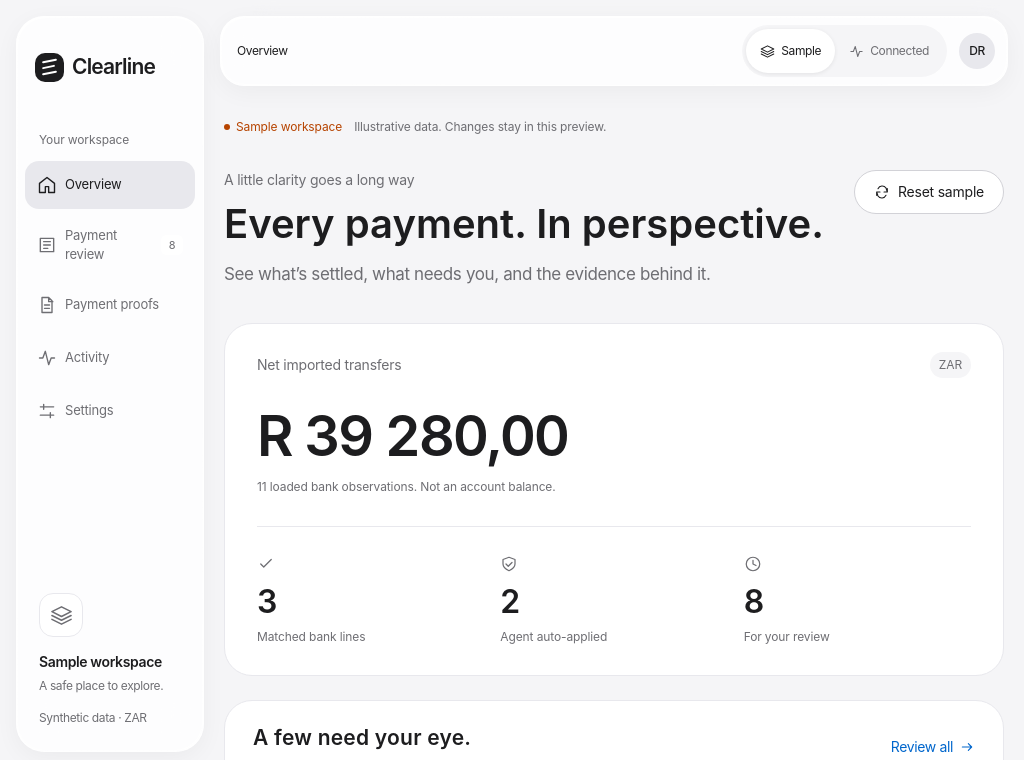
Test: switches to the actual HTTP source and shows an offline state instead of sample values
Expected: the text "R 39 280,00" is shown, [257,402,568,470]
Click the link with aria-label "Connected workspace" at (889, 51), box [849,43,929,58]
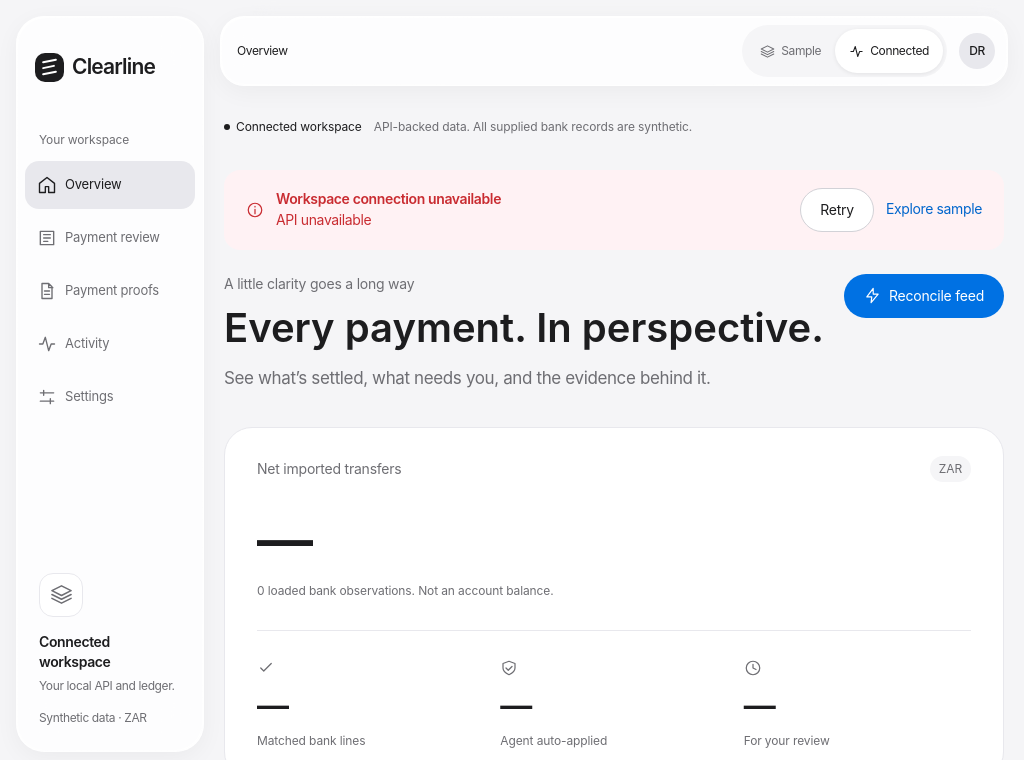
Result: the message shows "API unavailable" at [276,211,371,228]
Result: the text "R 39 280,00" is gone
